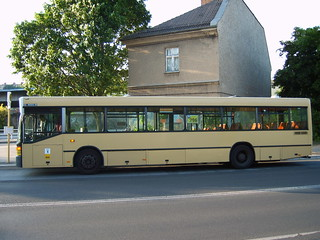bus: (16, 95, 313, 174)
